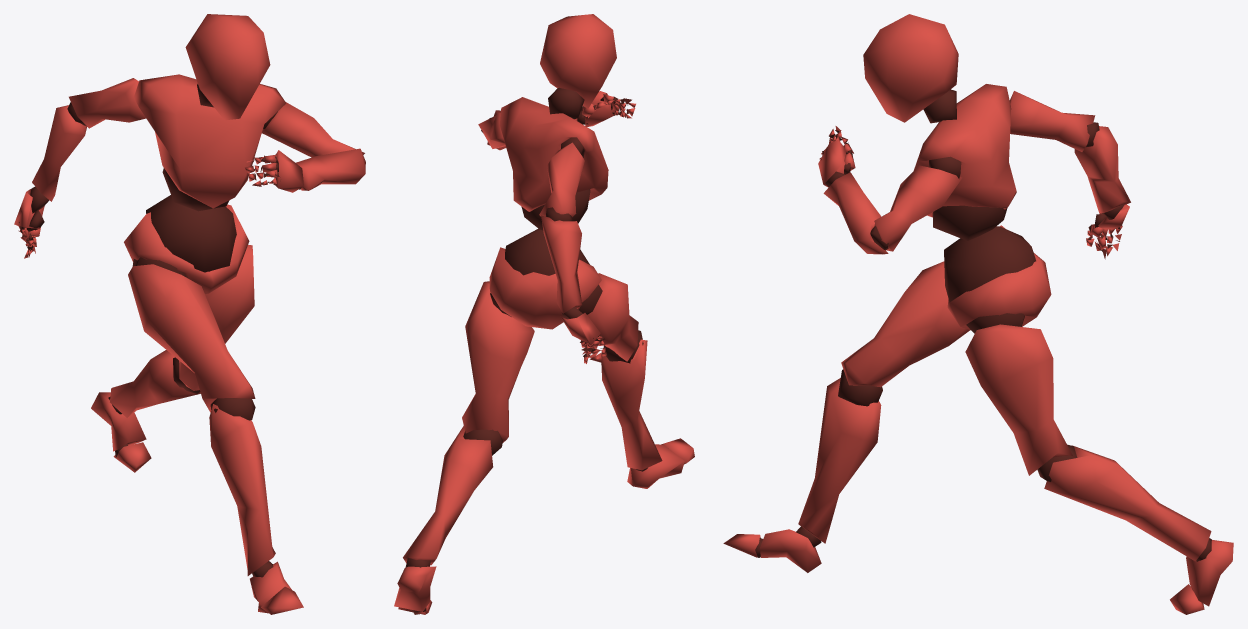
3 views of the same model, side by side, from view 1: azimuth 30°, elevation 25°; view 2: azimuth 150°, elevation 25°; view 3: azimuth 270°, elevation 25° (orthographic). The views are drawn at different scales.
Visible parts, largest first — view 1: Beta_Surface; view 2: Beta_Surface; view 3: Beta_Surface.
Boxes of the visible parts, x1=… form: Beta_Surface: x1=14, y1=14, x2=365, y2=614; Beta_Surface: x1=394, y1=14, x2=694, y2=614; Beta_Surface: x1=723, y1=14, x2=1233, y2=614.
Size of the model in its own units: 6.31 by 14.2 by 11.42.
